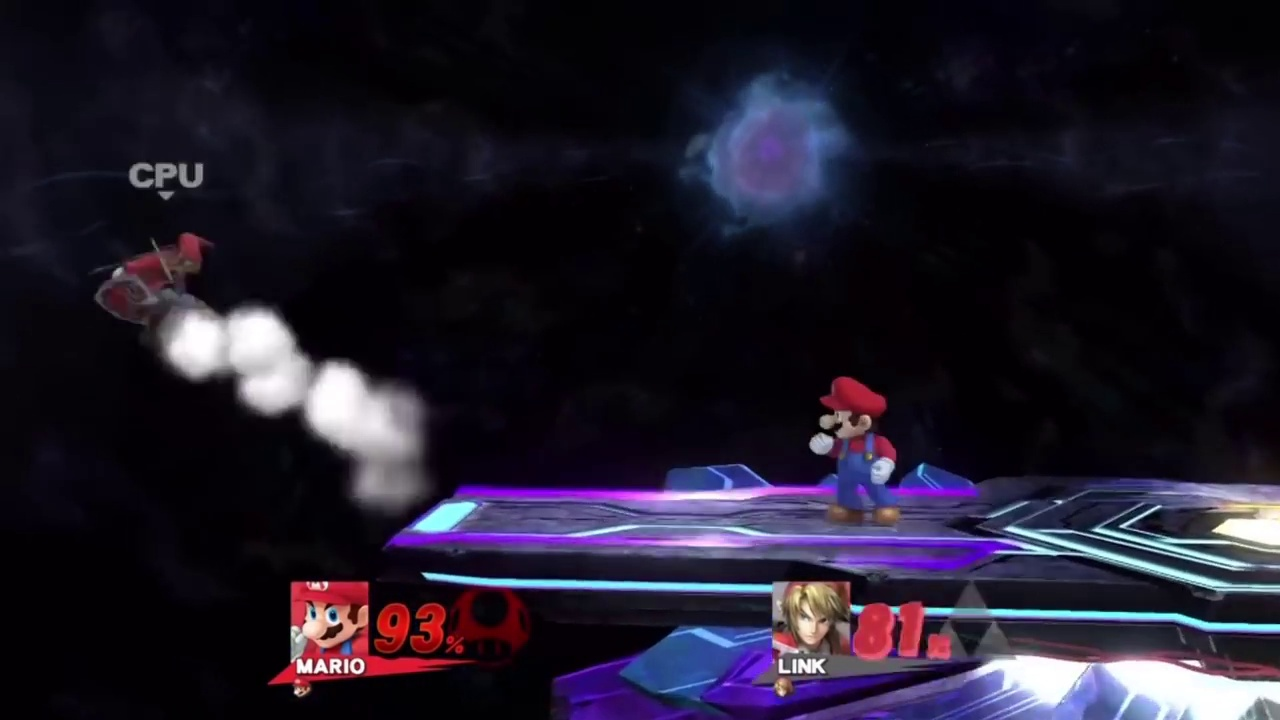Mario: (806, 375, 901, 526)
